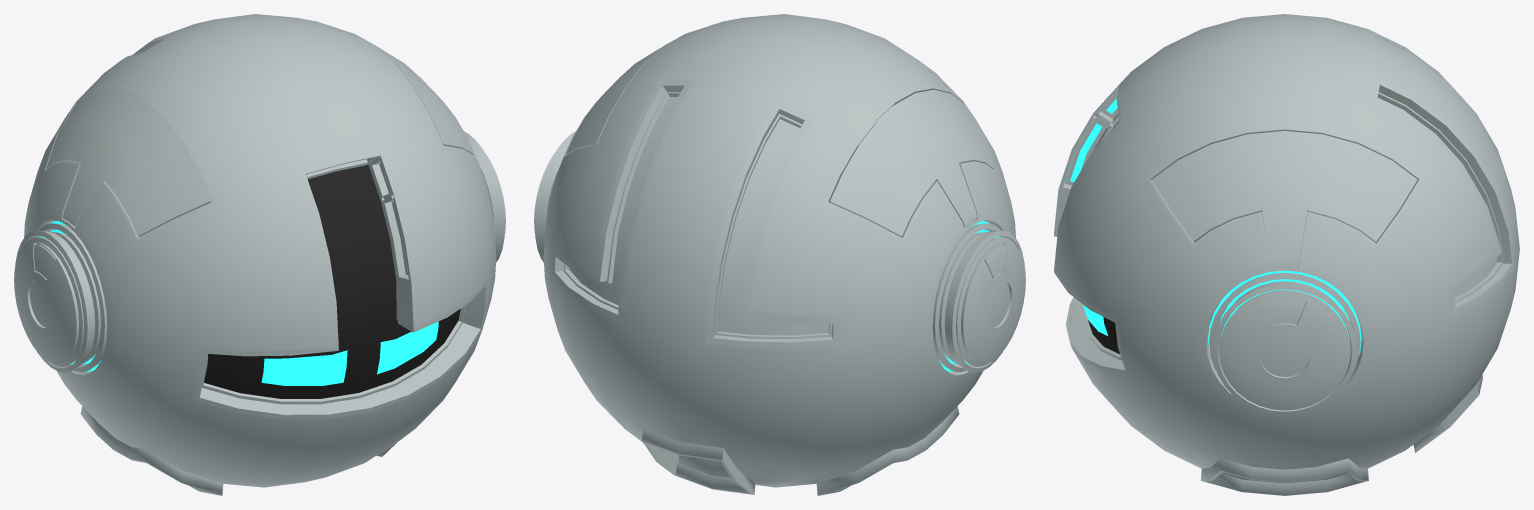
The model's file is bot.fbx.
3 views of the same model, side by side, from view 1: azimuth 30°, elevation 25°; view 2: azimuth 150°, elevation 25°; view 3: azimuth 270°, elevation 25° (orthographic).
Parts seen in each view (by area): view 1: Sphere; view 2: Sphere; view 3: Sphere.
Boxes of the visible parts, x1,y1,x2,y2 form: Sphere: (14,14,505,495); Sphere: (534,14,1025,495); Sphere: (1054,14,1519,495).
Bounding box in the file's own units: 215 × 200 × 198.
